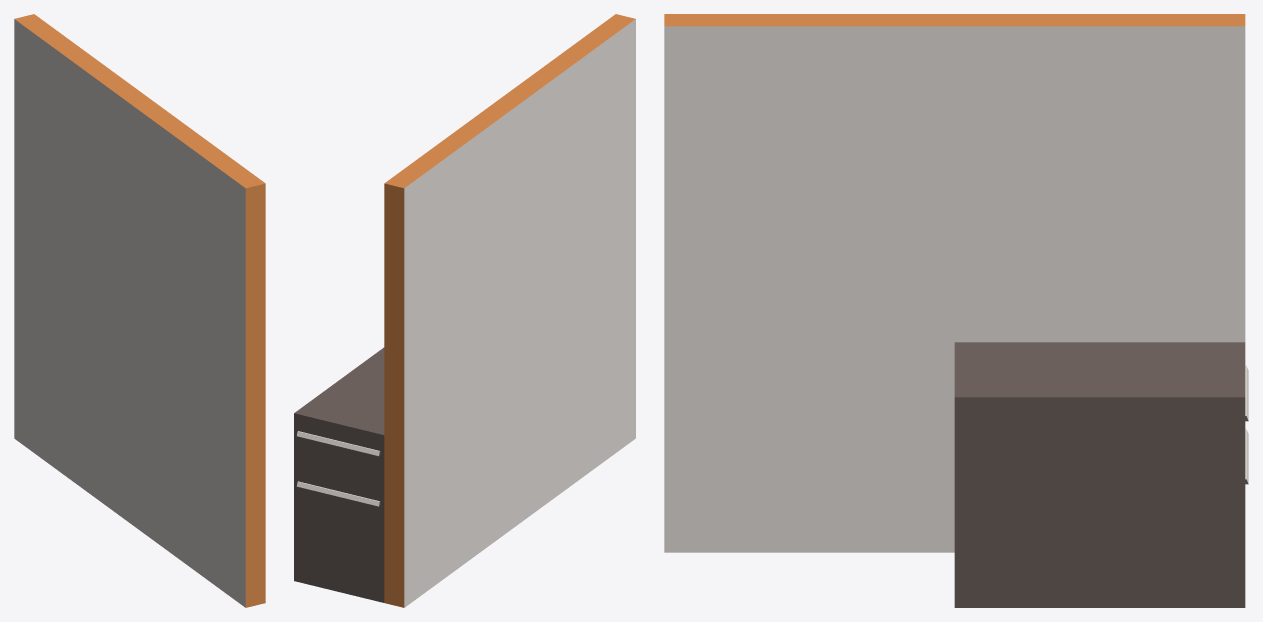
Rendered from Office_Cubicle_Wall.fbx.
3 views of the same model, side by side, from view 1: azimuth 30°, elevation 25°; view 2: azimuth 150°, elevation 25°; view 3: azimuth 270°, elevation 25° (orthographic). The views are drawn at different scales.
Visible parts, largest first — view 1: Plane; view 2: Plane; view 3: Plane.
Boxes of the visible parts, box(x1,y1,x2,y2) form: Plane: box(14, 14, 265, 607); Plane: box(294, 14, 635, 607); Plane: box(664, 14, 1248, 607).
Bounding box in the file's own units: 0.55 × 2 × 2.01.
